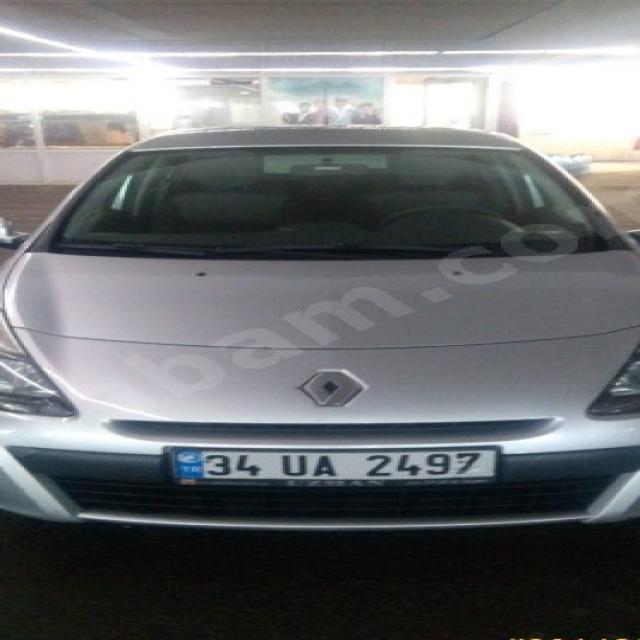license_plate: (166, 448, 498, 479)
